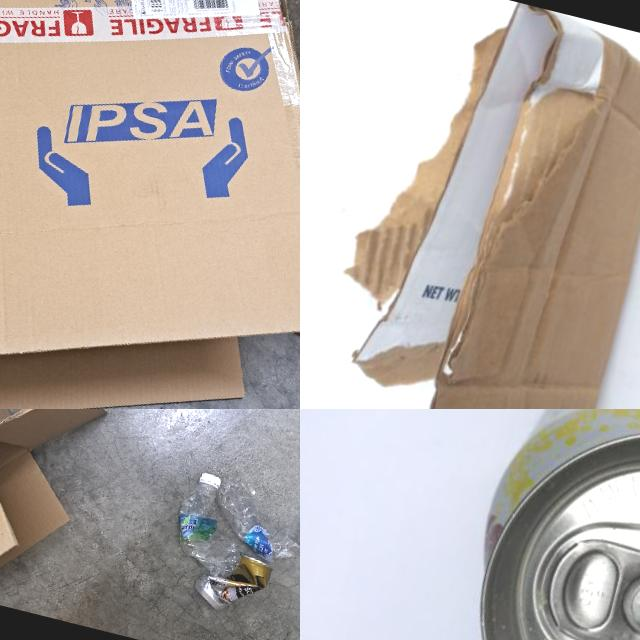aba de lata: (538, 529, 640, 640)
garrafa plástica: (218, 473, 300, 563), (172, 488, 243, 570)
lata: (428, 409, 640, 640), (198, 542, 272, 620)
papelão: (300, 0, 640, 409), (0, 0, 300, 409), (0, 409, 120, 618)
tampa plástica: (198, 464, 225, 492)
